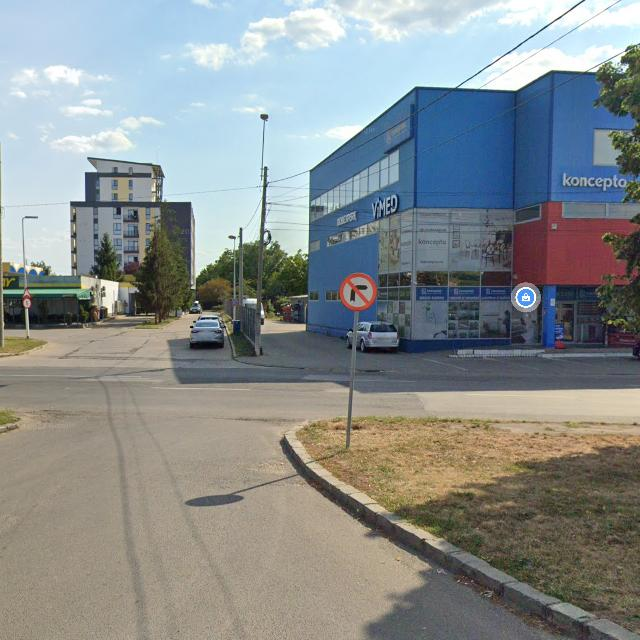forb_right: (339, 272, 376, 310)
